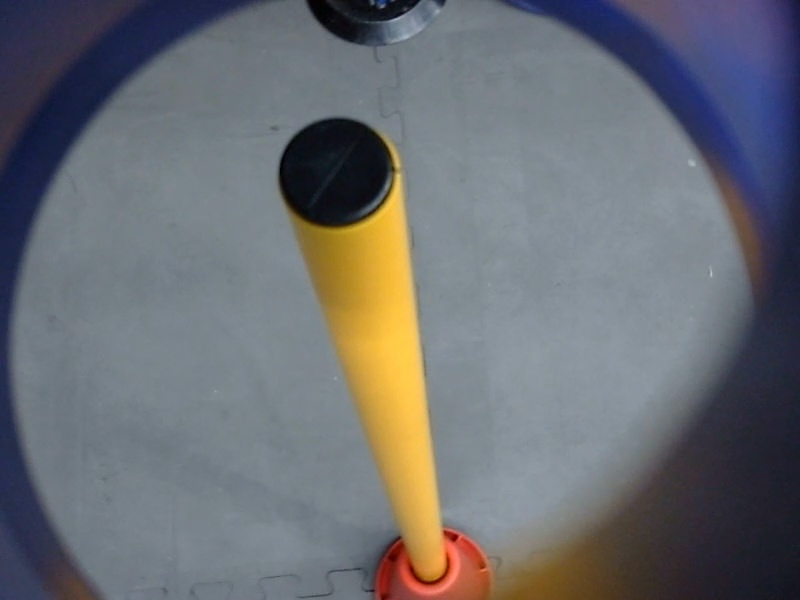tip: (264, 100, 409, 241)
